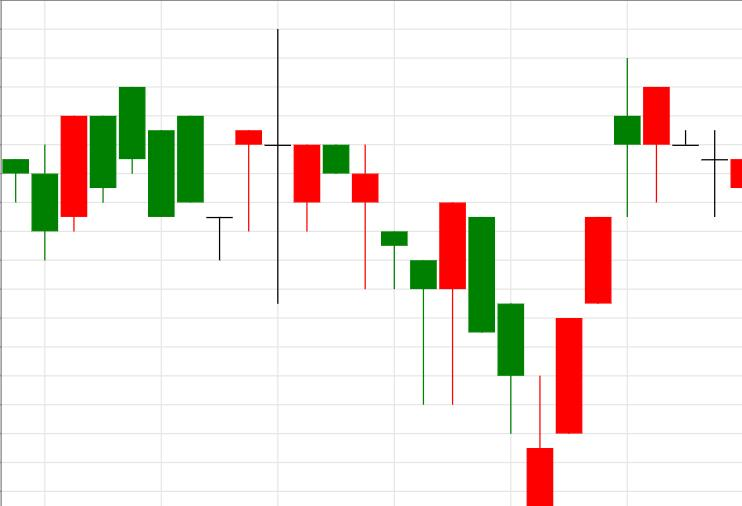three_white_soldiers_rise: (322, 144, 612, 506)
